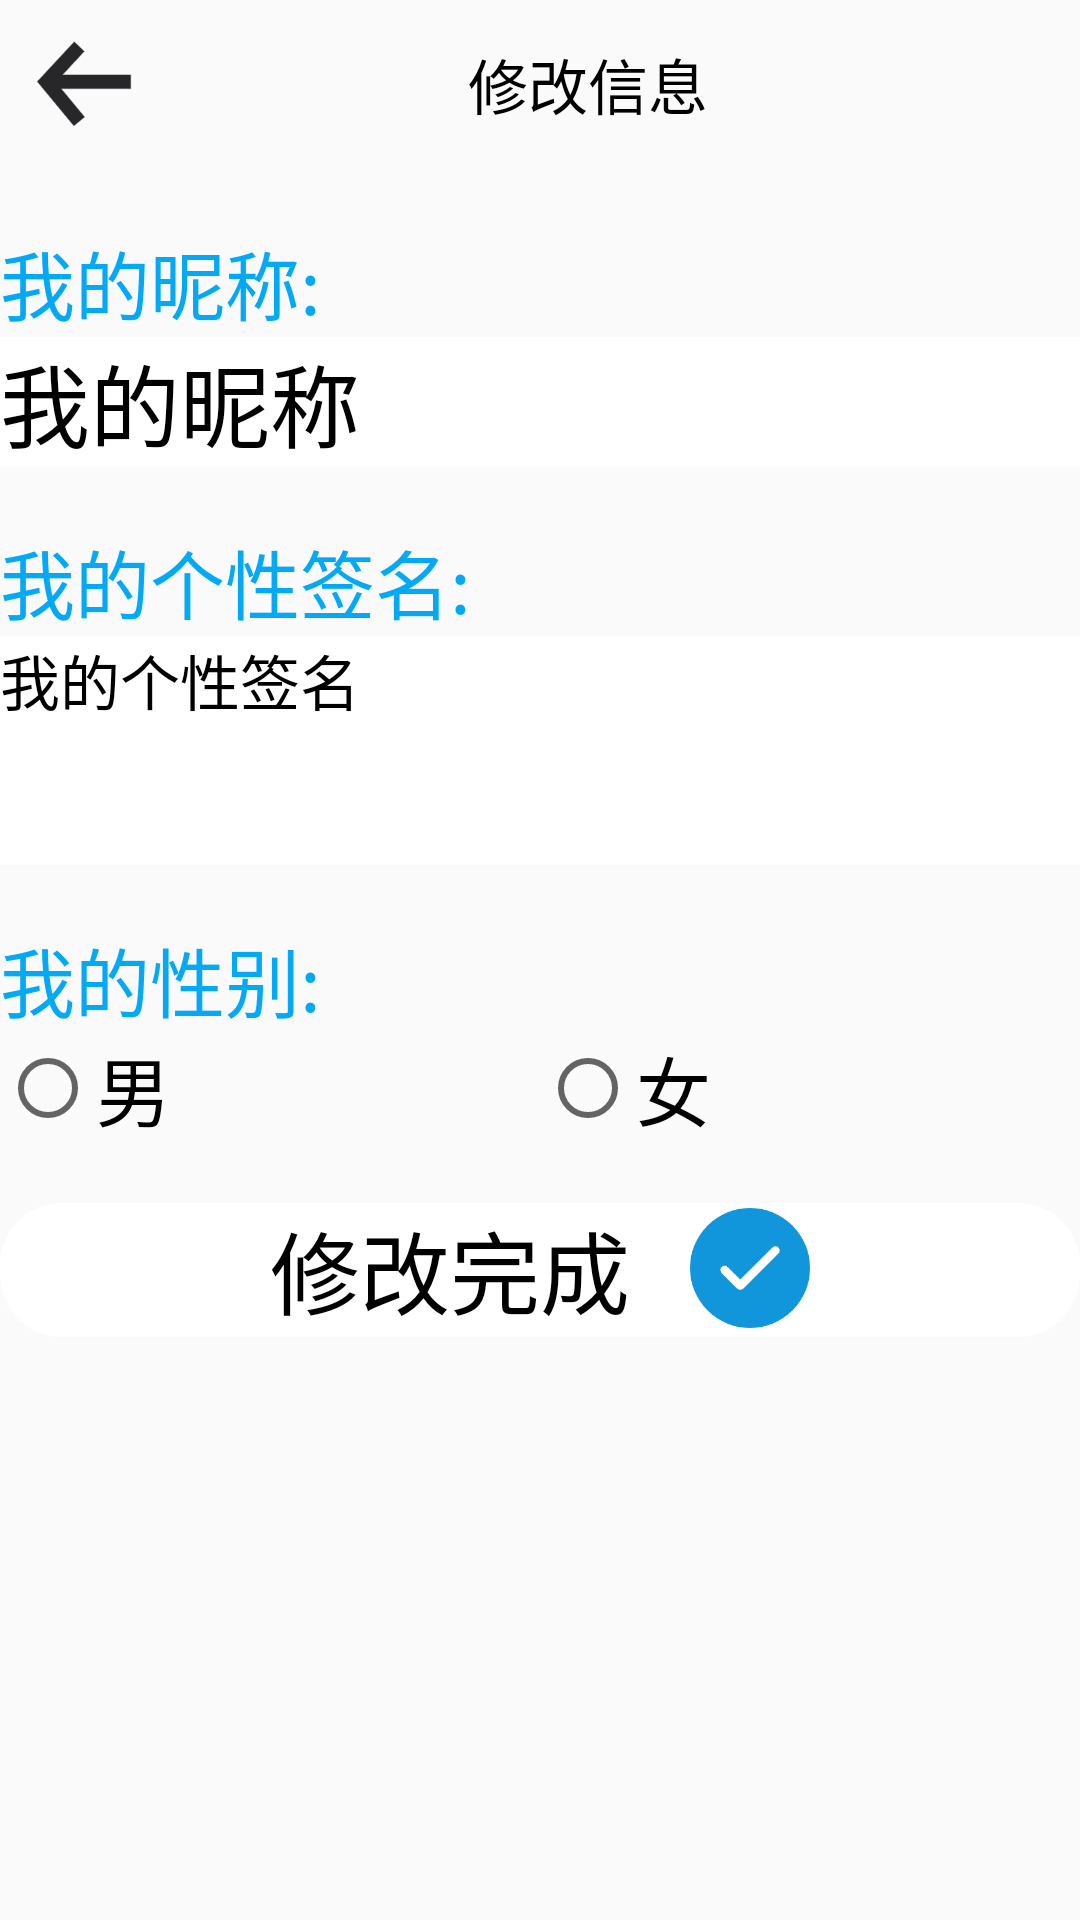

Screen size 1080×1920. Icon name, then its box in pixels as (x1, y1, x2, y2):
mecwancheng: (690, 1208, 810, 1328)
